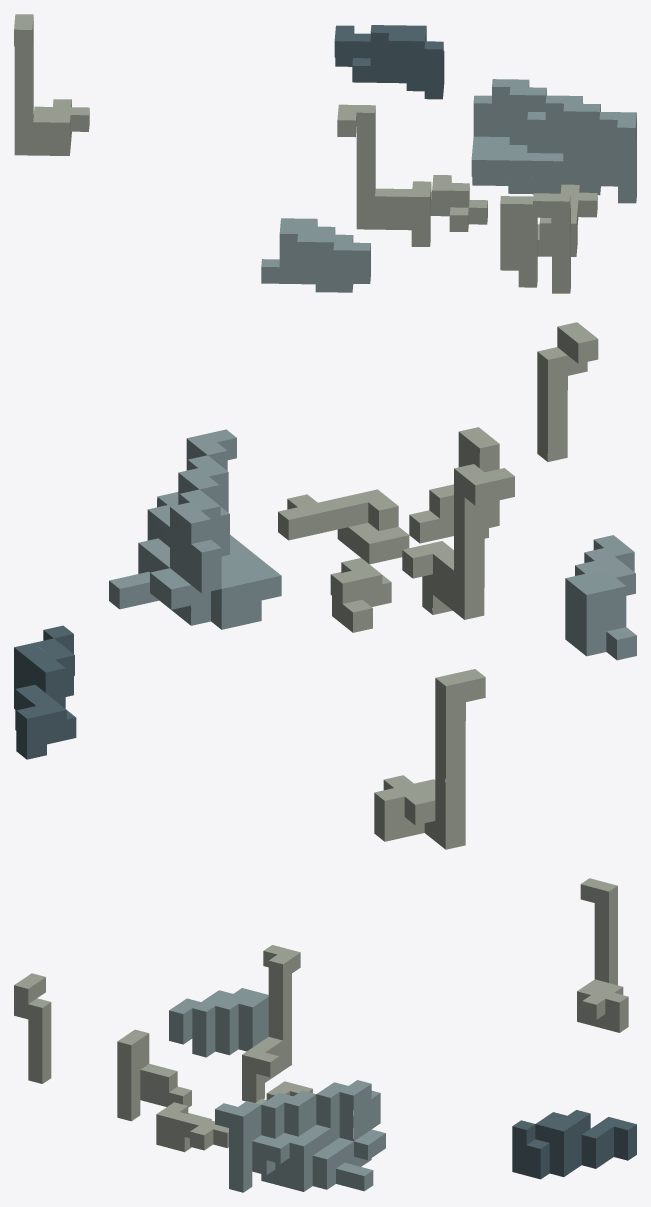
The picture shows the model from 3 angles, top to bottom: view 1: azimuth 30°, elevation 25°; view 2: azimuth 150°, elevation 25°; view 3: azimuth 270°, elevation 25°; orthographic projection. The views are drawn at different scales.
Visible parts, largest first — view 1: measured-industrial; view 2: measured-industrial; view 3: measured-industrial.
Boxes of the visible parts, x1,y1,x2,y2 form: measured-industrial: [14, 14, 636, 293]; measured-industrial: [14, 322, 636, 849]; measured-industrial: [14, 878, 636, 1192].
Size of the model in its own units: 41.15 by 12.01 by 55.64.
